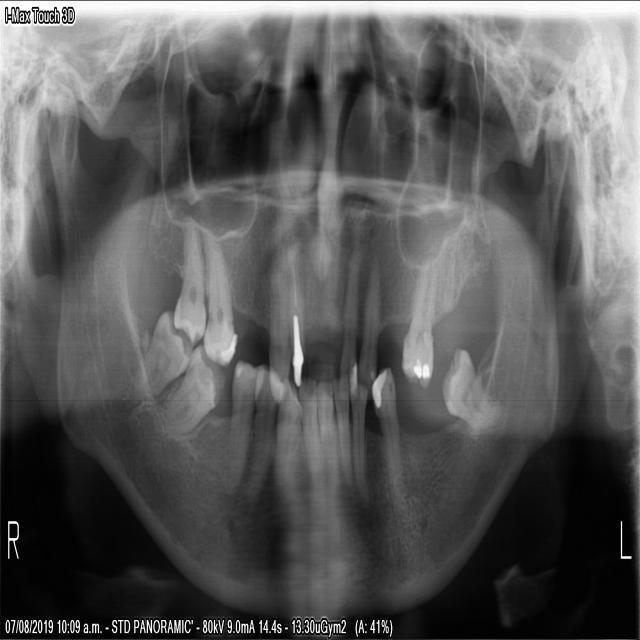LCU: (353, 250, 383, 406)
LID: (347, 374, 369, 509), (330, 367, 353, 493)
LIU: (337, 244, 360, 402)
LMD: (437, 335, 506, 435)
LMU: (398, 249, 439, 390)
LPMD: (366, 360, 406, 510)
RCD: (271, 368, 301, 503)
RCU: (266, 242, 291, 412)
RID: (293, 369, 327, 506), (312, 371, 340, 492)
RIU: (285, 238, 307, 396)
RMD: (153, 339, 227, 447), (127, 303, 189, 407)
RMU: (168, 209, 206, 347), (200, 222, 236, 367)
RPMD: (232, 354, 285, 517), (218, 352, 264, 503)
